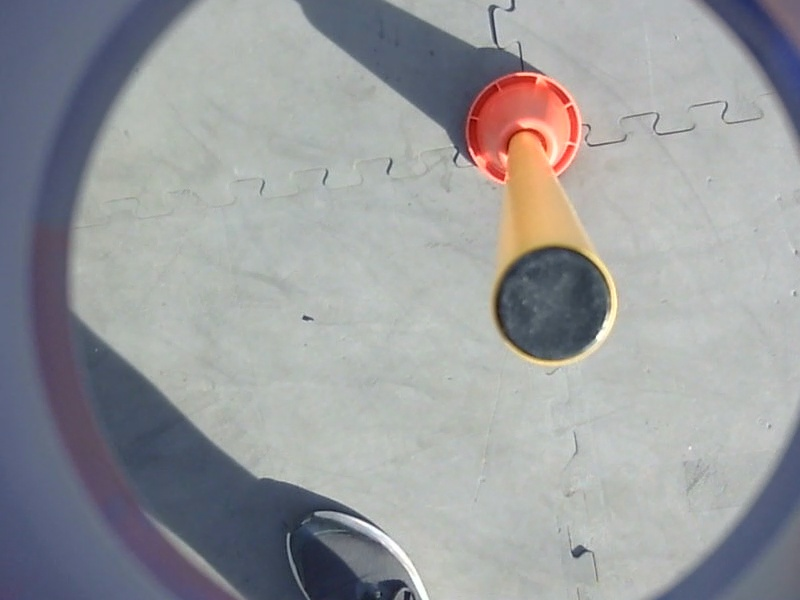tip: (484, 237, 622, 373)
